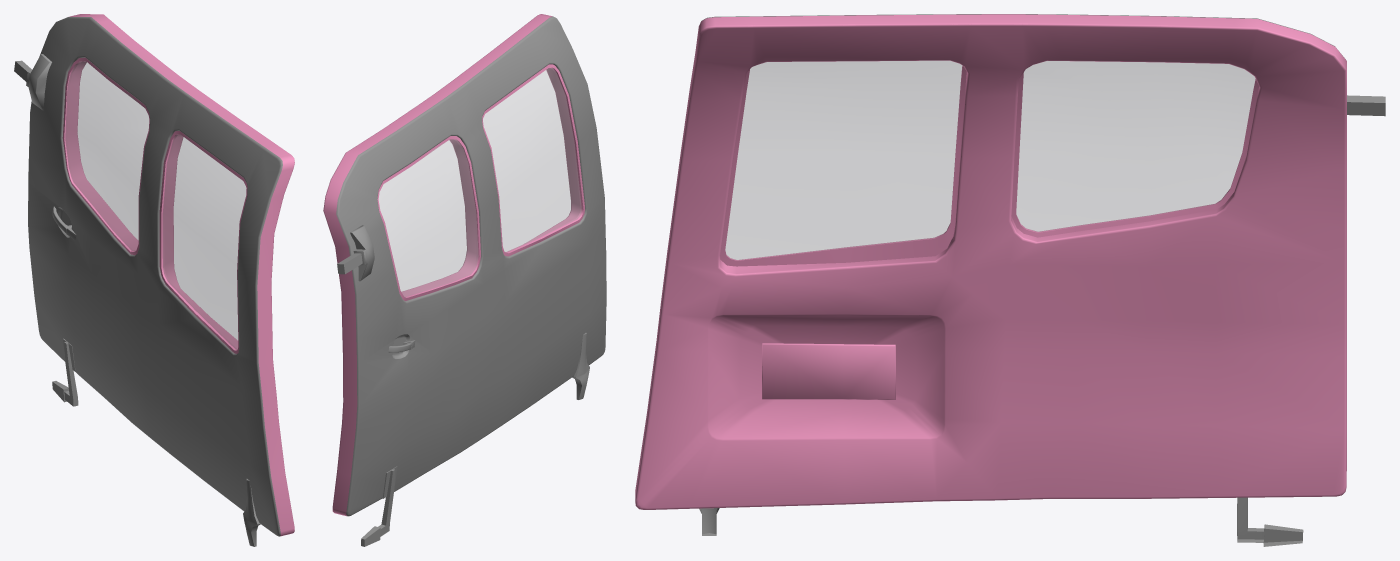
The model's file is H155_men04.FBX.
3 views of the same model, side by side, from view 1: azimuth 30°, elevation 25°; view 2: azimuth 150°, elevation 25°; view 3: azimuth 270°, elevation 25° (orthographic). The views are drawn at different scales.
Visible parts, largest first — view 1: H155_men04; view 2: H155_men04; view 3: H155_men04.
Boxes of the visible parts, left/top/right/bottom form: H155_men04: left=14, top=14, right=294, bottom=546; H155_men04: left=323, top=14, right=606, bottom=546; H155_men04: left=635, top=14, right=1385, bottom=546.
Bounding box in the file's own units: 0.1986 × 1.32 × 1.66.
